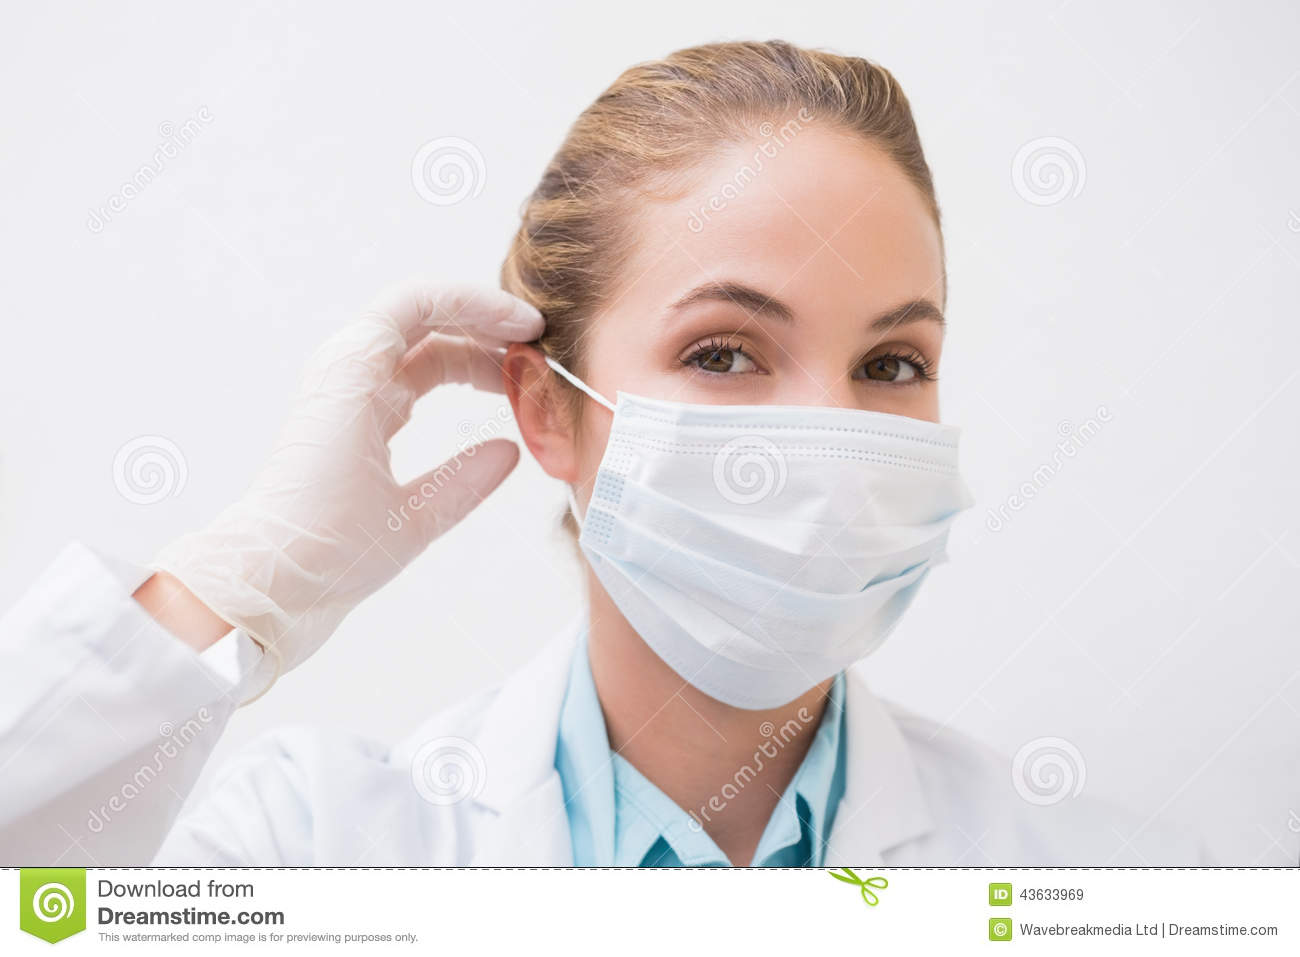mask: (578, 391, 976, 713)
